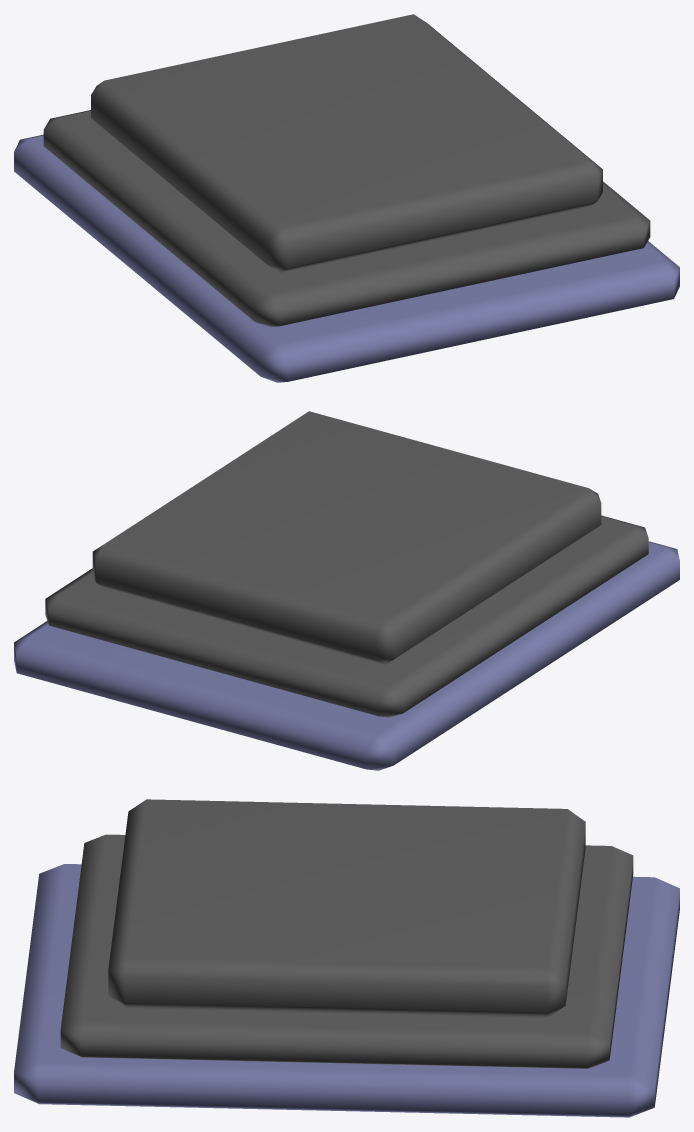
File: Bathroom2_towel2.fbx
3 renders of one model, top to bottom at view 1: azimuth 30°, elevation 25°; view 2: azimuth 150°, elevation 25°; view 3: azimuth 270°, elevation 25°, orthographic. The views are drawn at different scales.
Parts seen in each view (by area): view 1: Bathroom2_towel2; view 2: Bathroom2_towel2; view 3: Bathroom2_towel2.
Boxes of the visible parts, x1,y1,x2,y2 form: Bathroom2_towel2: (14,14,679,382); Bathroom2_towel2: (14,411,679,770); Bathroom2_towel2: (14,799,679,1117).
Size of the model in its own units: 43.9 by 11.47 by 54.02.
